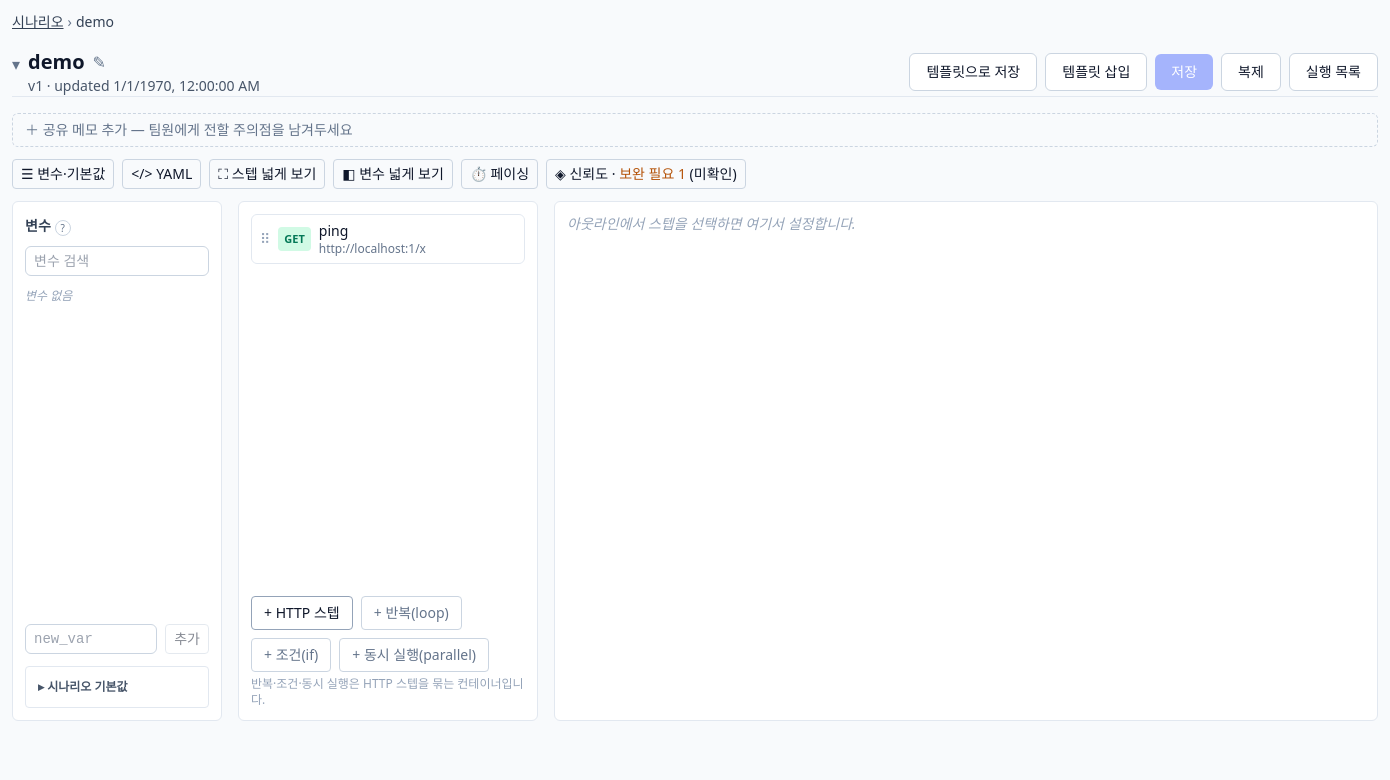
Test case: ScenarioEditPage 헤더 접기/펴기 (C) › 접으면 브레드크럼·부제 숨김·제목/저장 유지, 펴면 복귀 + EditorShell cap 배선
Check: the heading "demo" is shown, box [28,48,84,76]
Check: the text "v1 · updated 1/1/1970, 12:00:00 AM" is shown, box [28,76,260,96]
Click the button named "헤더 접기": (16, 64) [12,52,20,76]
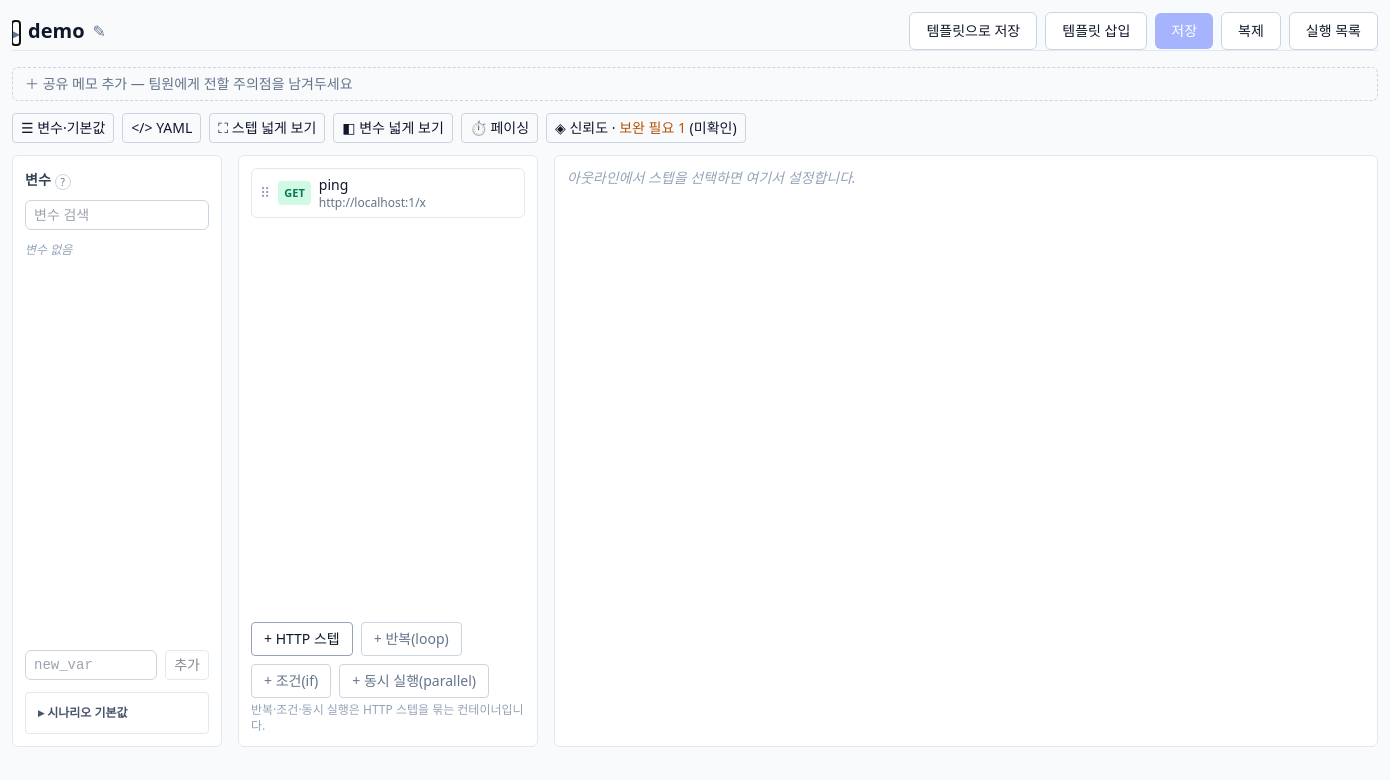
Check: the heading "demo" is shown, box [28,17,84,45]
Check: the text "updated" is gone
Click the button named "헤더 펴기": (16, 33) [12,21,20,45]
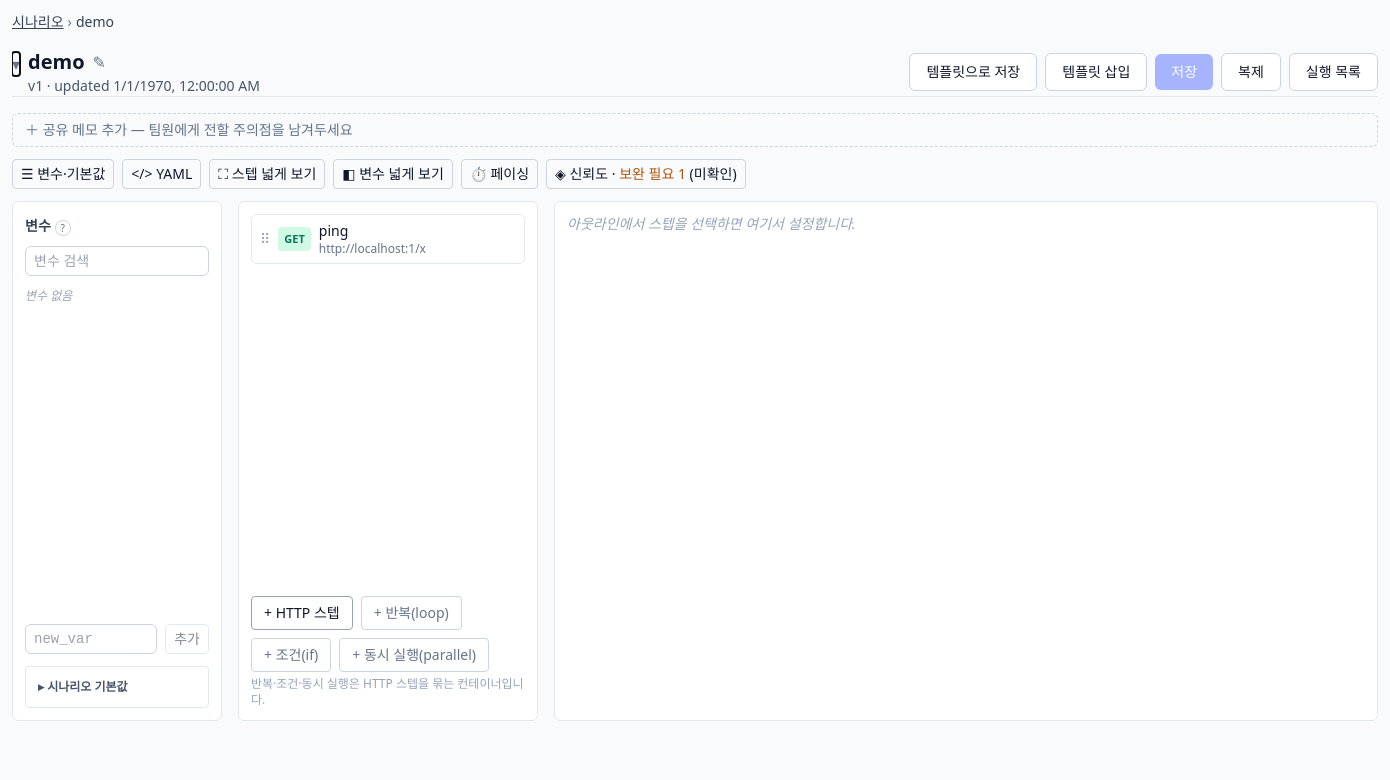
Check: the text "v1 · updated 1/1/1970, 12:00:00 AM" is shown, box [28,76,260,96]
